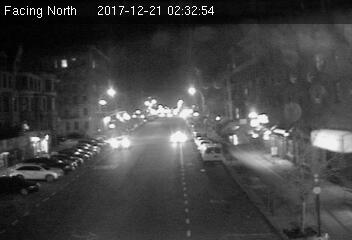car: (108, 137, 133, 150)
truck: (200, 142, 226, 163)
